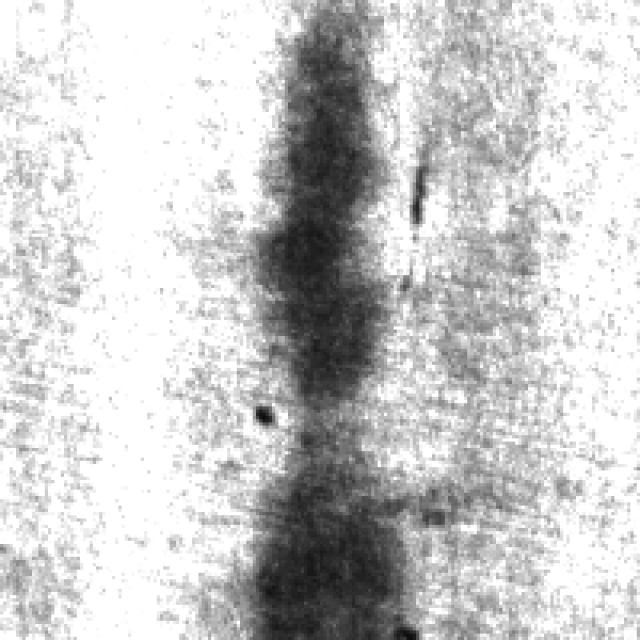patches: (259, 15, 417, 409), (240, 435, 413, 640)
